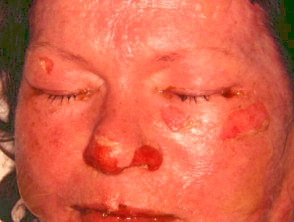SJS-TEN: (72, 111, 170, 203), (151, 93, 276, 150), (60, 197, 188, 221), (31, 51, 64, 84)
